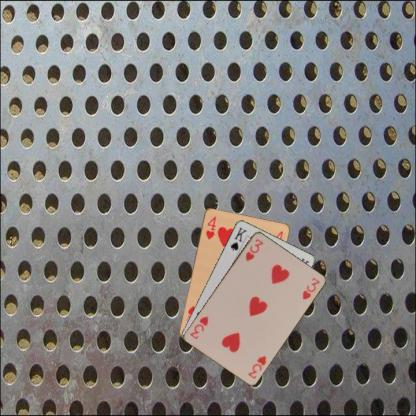3h: (245, 353, 268, 380), (242, 236, 264, 262)
4h: (204, 214, 218, 240)
Ks: (228, 225, 247, 252)
